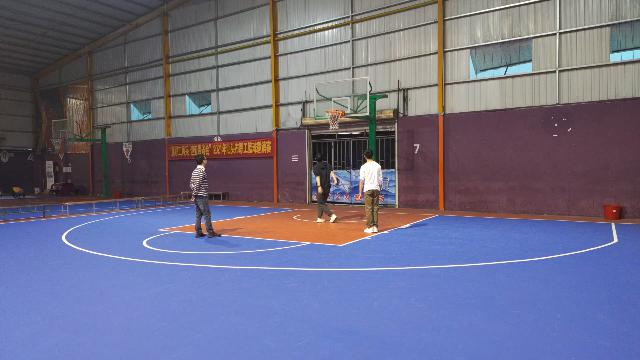basket: (325, 110, 343, 128)
goal: (328, 114, 338, 122)
